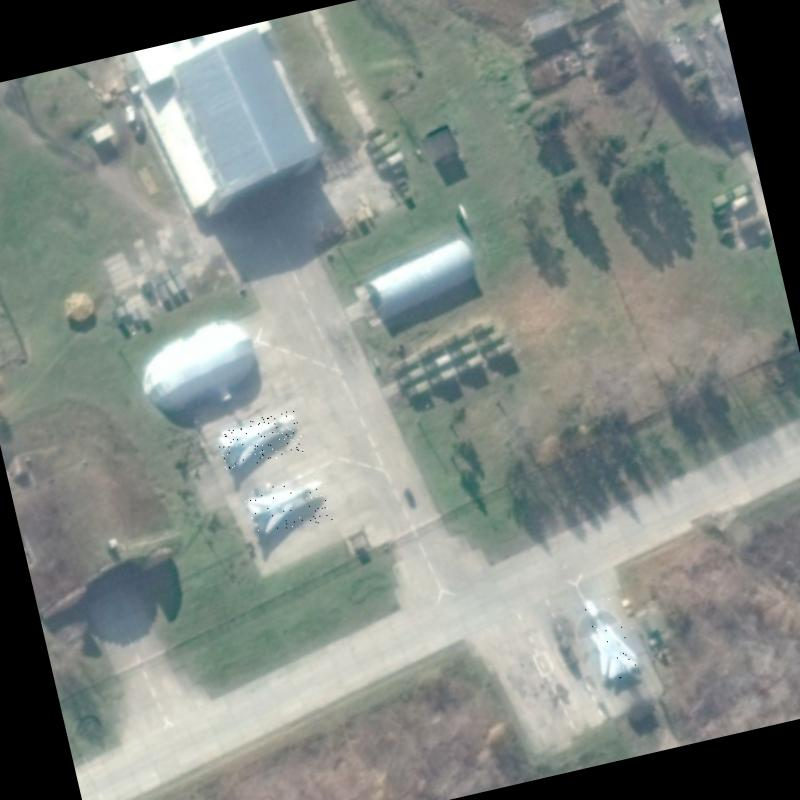A20: (581, 588, 644, 684), (213, 407, 305, 470), (243, 474, 333, 538)
